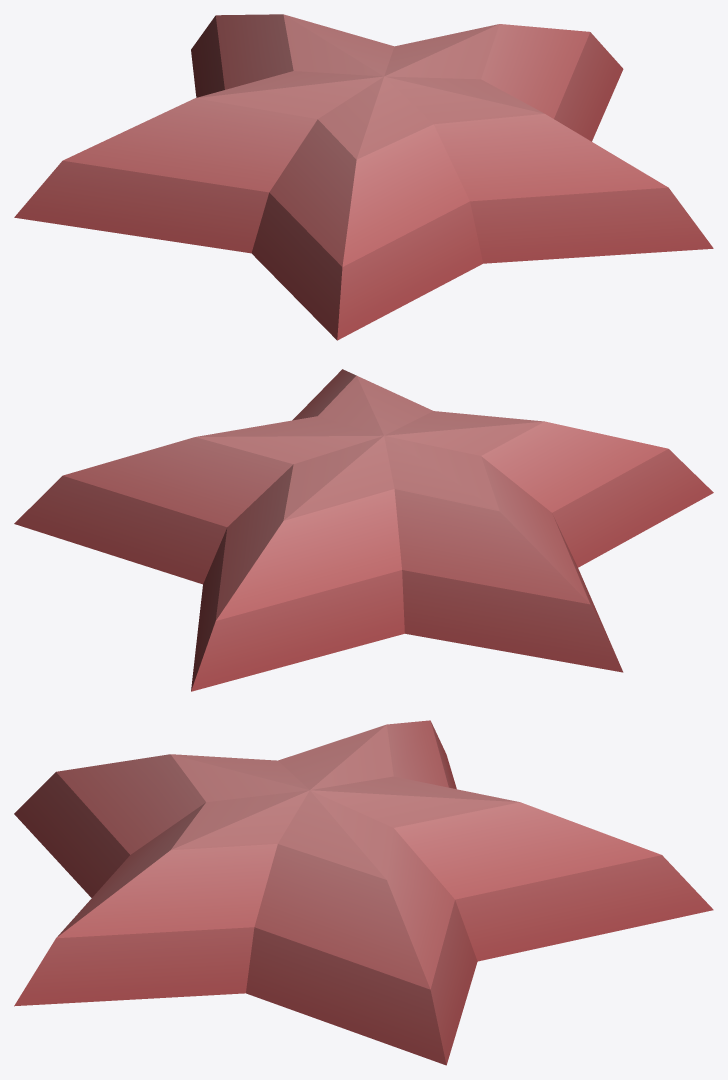
The model's file is Starfish.glb.
3 renders of one model, top to bottom at view 1: azimuth 30°, elevation 25°; view 2: azimuth 150°, elevation 25°; view 3: azimuth 270°, elevation 25°, orthographic. The views are drawn at different scales.
Visible parts, largest first — view 1: Star Fish; view 2: Star Fish; view 3: Star Fish.
Boxes of the visible parts, left/top/right/bottom form: Star Fish: left=14, top=14, right=713, bottom=340; Star Fish: left=14, top=369, right=713, bottom=691; Star Fish: left=14, top=720, right=713, bottom=1065.
Size of the model in its own units: 0.3623 by 0.0651 by 0.3446.
1 material, 1 textured.
